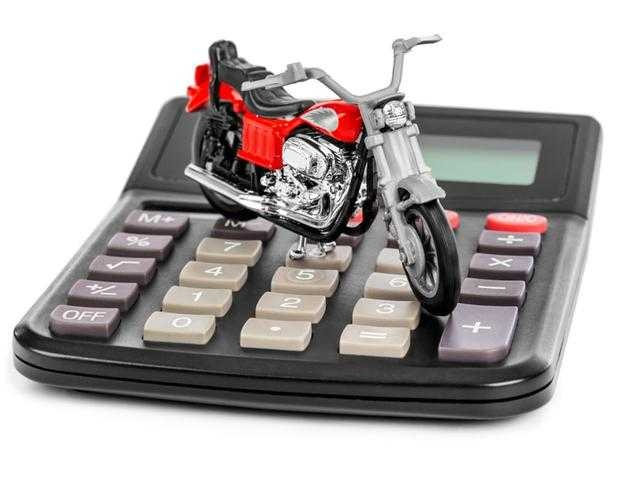motorcycle: (188, 21, 454, 316)
